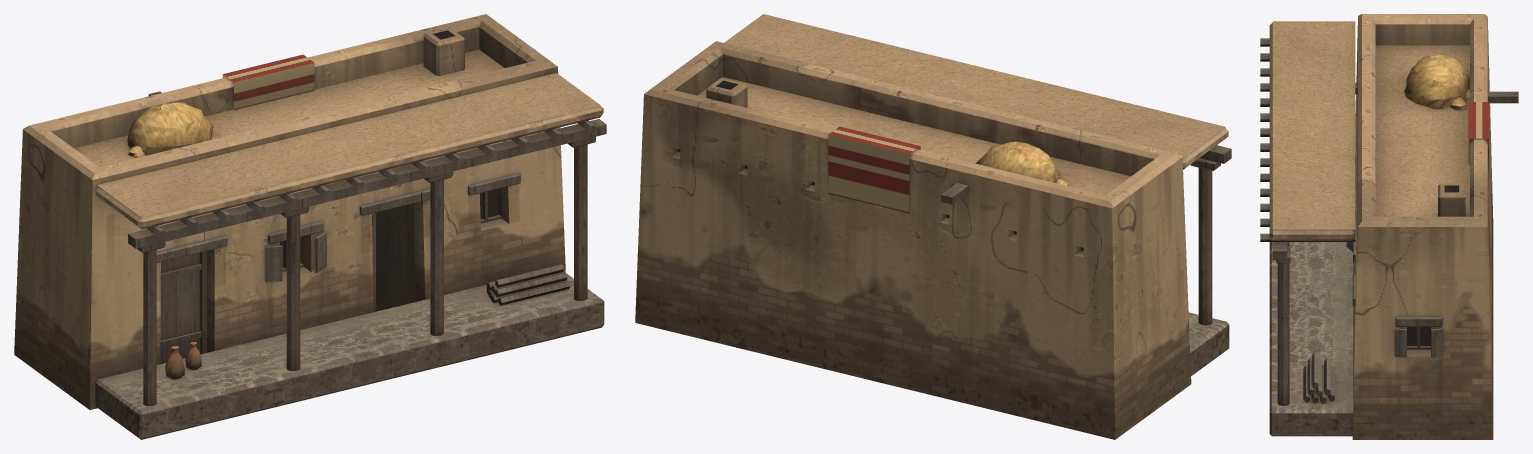
The picture shows the model from 3 angles, left to right: view 1: azimuth 30°, elevation 25°; view 2: azimuth 150°, elevation 25°; view 3: azimuth 270°, elevation 25°; orthographic projection. The views are drawn at different scales.
Parts seen in each view (by area): view 1: vh_h50e; view 2: vh_h50e; view 3: vh_h50e.
Part boxes in pixels (x1=…): vh_h50e: x1=14, y1=14, x2=606, y2=439; vh_h50e: x1=635, y1=14, x2=1231, y2=439; vh_h50e: x1=1260, y1=14, x2=1518, y2=439.
Bounding box in the file's own units: 8.51 × 4.05 × 4.26.
Materials: 1 (1 with a texture image).
